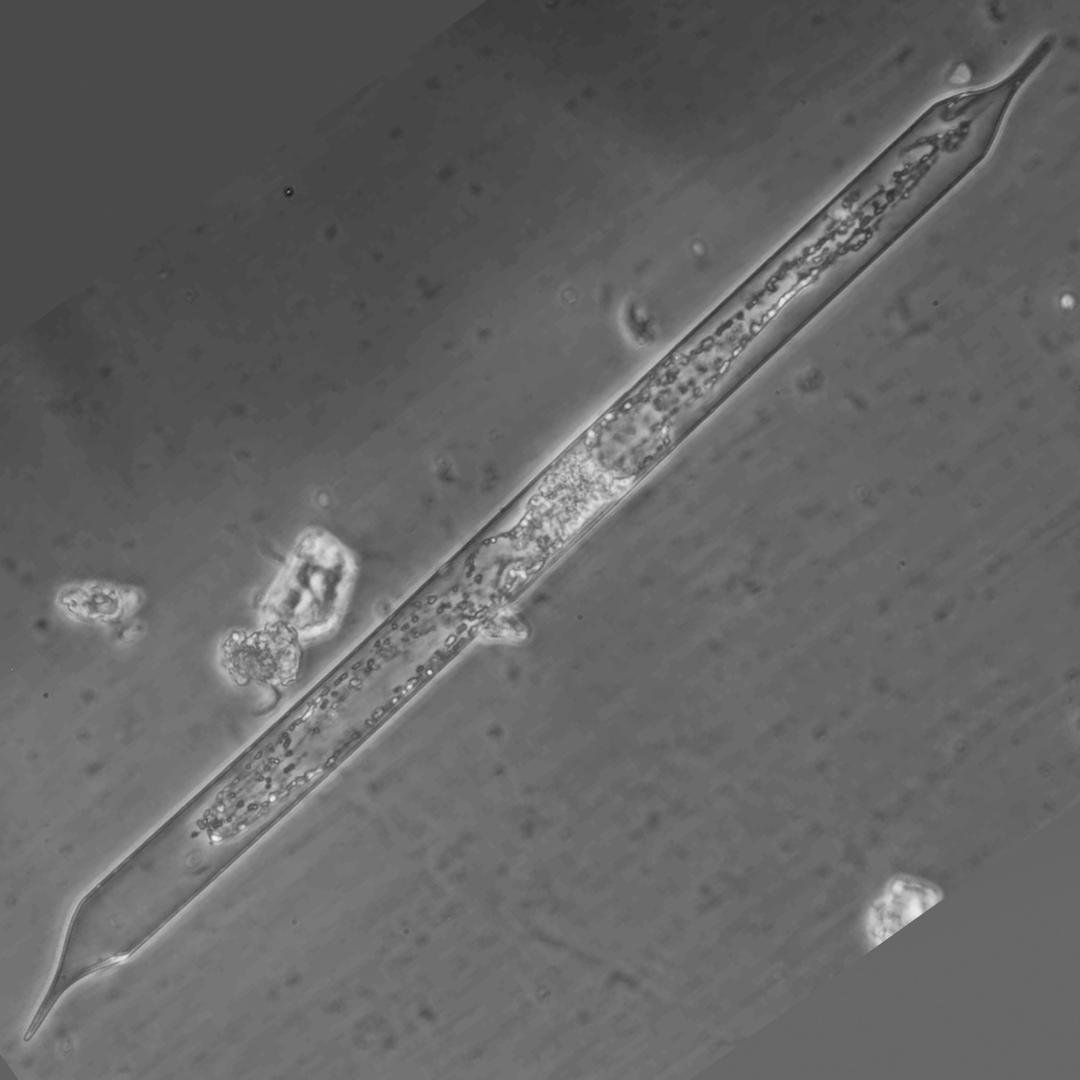proboscia_alata: (24, 36, 1055, 1041)
